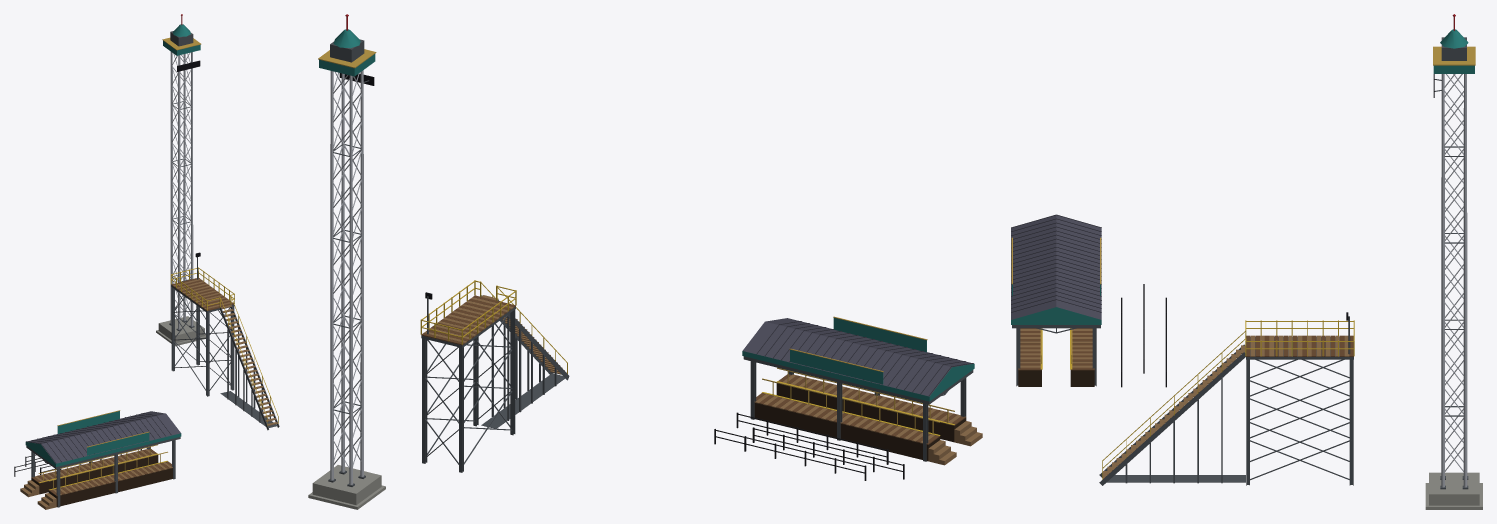
The model's file is hg-coaster.glb.
3 views of the same model, side by side, from view 1: azimuth 30°, elevation 25°; view 2: azimuth 150°, elevation 25°; view 3: azimuth 270°, elevation 25° (orthographic). The views are drawn at different scales.
Visible parts, largest first — view 1: hg-coaster; view 2: hg-coaster; view 3: hg-coaster.
Part boxes in pixels (left/top/right/bottom): hg-coaster: left=14, top=14, right=279, bottom=509; hg-coaster: left=308, top=14, right=982, bottom=509; hg-coaster: left=1011, top=14, right=1482, bottom=509.
Size of the model in its own units: 32.5 by 33.76 by 29.65.
